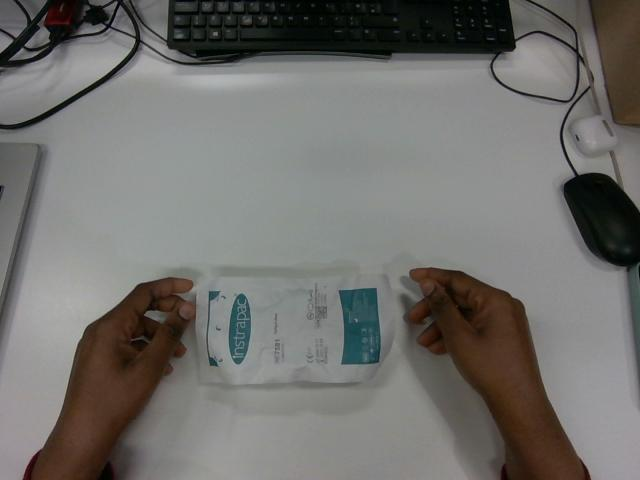gallipot: (196, 274, 397, 384)
